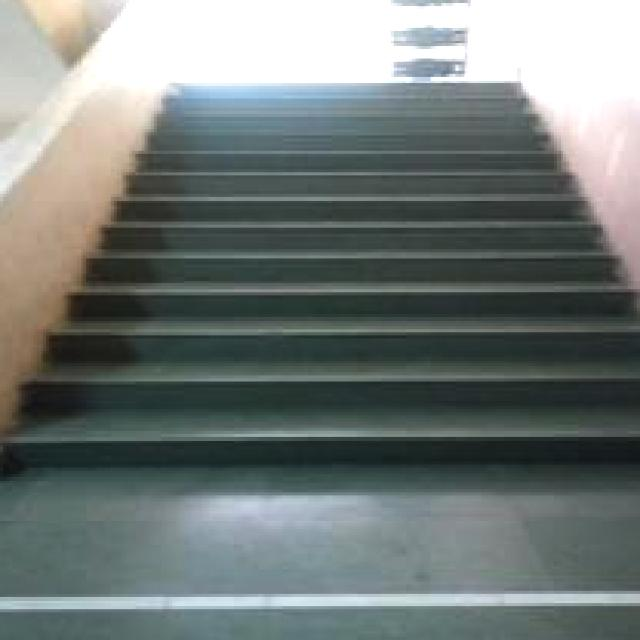upstair: (69, 244, 613, 496)
